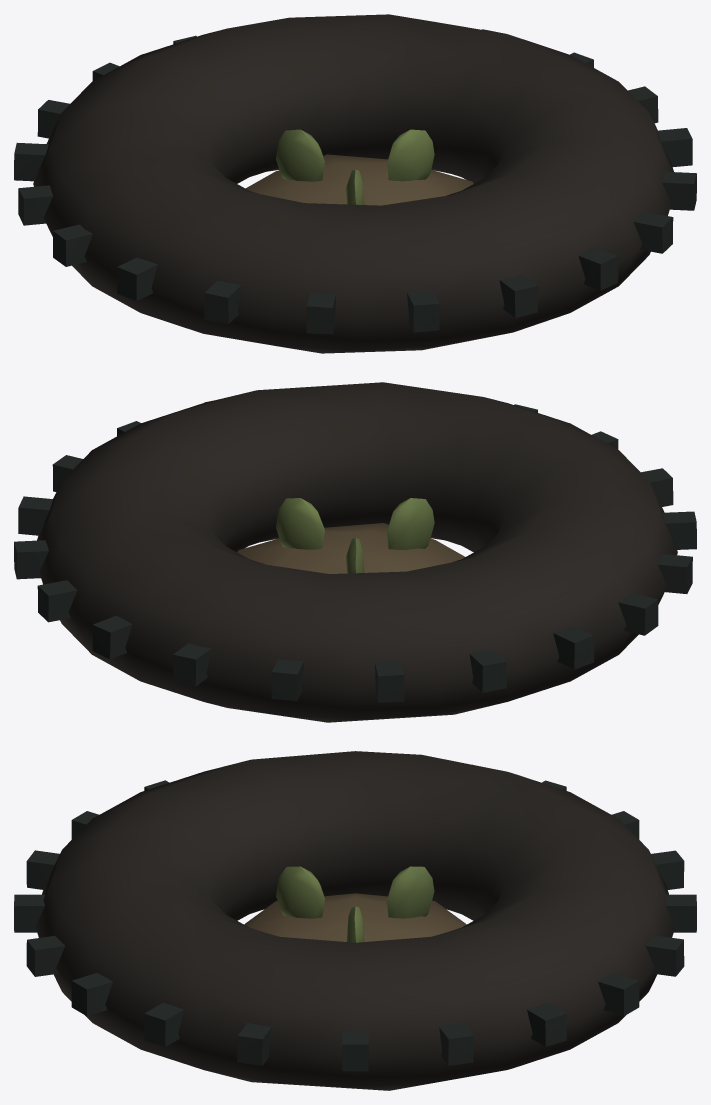
The model's file is haul_tyre_a_lod1.glb.
3 views of the same model, one above another, from view 1: azimuth 30°, elevation 25°; view 2: azimuth 150°, elevation 25°; view 3: azimuth 270°, elevation 25° (orthographic).
Visible parts, largest first — view 1: Surface.001; view 2: Surface.001; view 3: Surface.001.
Part boxes in pixels (<box>): Surface.001: <box>14,14,696,353</box>; Surface.001: <box>14,382,696,722</box>; Surface.001: <box>14,751,696,1090</box>.
Bounding box in the file's own units: 4.31 × 0.9229 × 4.31.
